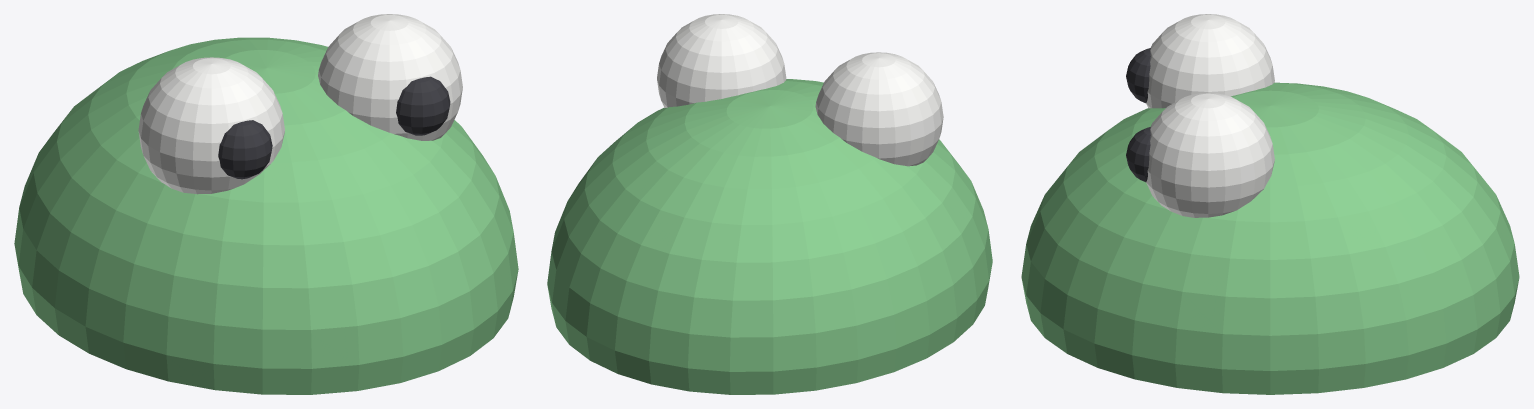
File: frog-hat.glb
3 renders of one model, left to right at view 1: azimuth 30°, elevation 25°; view 2: azimuth 150°, elevation 25°; view 3: azimuth 270°, elevation 25°, orthographic. The views are drawn at different scales.
Visible parts, largest first — view 1: FrogHat; view 2: FrogHat; view 3: FrogHat.
Boxes of the visible parts, x1,y1,x2,y2 form: FrogHat: (14, 14, 518, 394); FrogHat: (547, 14, 992, 394); FrogHat: (1021, 14, 1519, 394).
Bounding box in the file's own units: 2 × 1.21 × 2.24.
